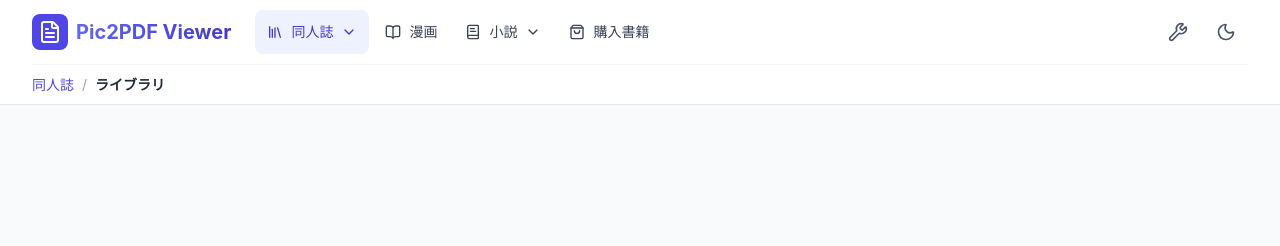
Test: Layout › カテゴリメニューはEscapeで閉じる
The image size is (1280, 246).
Click the button with aria-label "同人誌メニュー" at [312, 32], box x1=255 y1=10 x2=369 y2=54
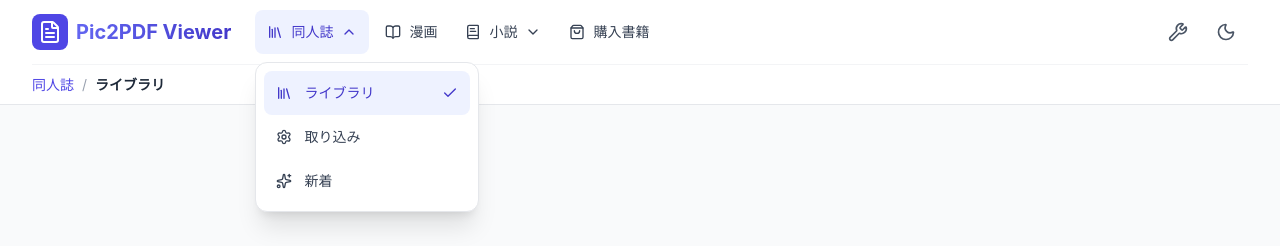
Press Escape
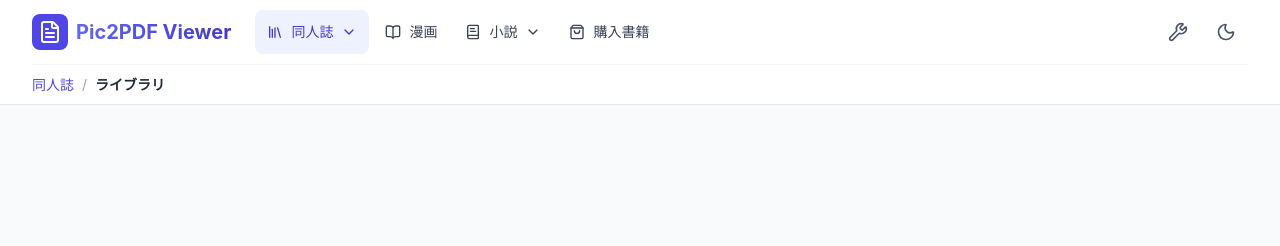
Check: the button with aria-label "同人誌メニュー" is collapsed, box x1=255 y1=10 x2=369 y2=54
Check: the link "同人誌ライブラリ" is gone
